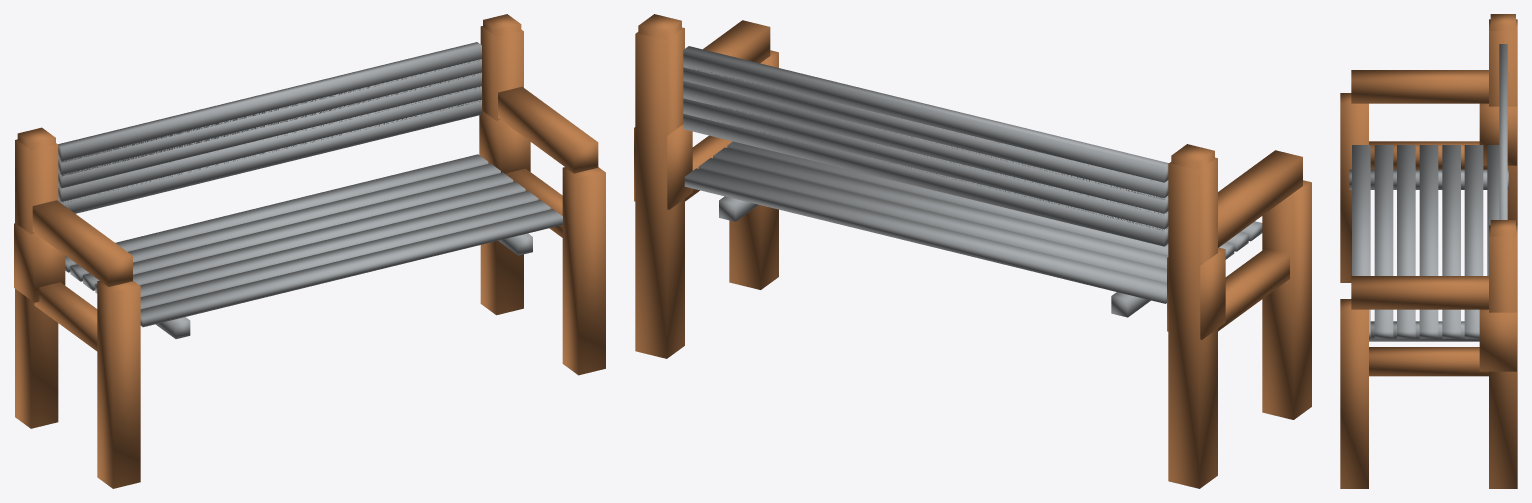
The model's file is SimpleBench.glb.
3 views of the same model, side by side, from view 1: azimuth 30°, elevation 25°; view 2: azimuth 150°, elevation 25°; view 3: azimuth 270°, elevation 25° (orthographic). The views are drawn at different scales.
Parts seen in each view (by area): view 1: GreySlats, OrangeFrame; view 2: GreySlats, OrangeFrame; view 3: OrangeFrame, GreySlats.
Part boxes in pixels (x1=…): GreySlats: x1=58, y1=42, x2=562, y2=338; OrangeFrame: x1=14, y1=14, x2=605, y2=488; GreySlats: x1=683, y1=46, x2=1262, y2=317; OrangeFrame: x1=634, y1=14, x2=1311, y2=488; OrangeFrame: x1=1340, y1=14, x2=1517, y2=488; GreySlats: x1=1349, y1=44, x2=1508, y2=341.
Bounding box in the file's own units: 1.53 × 0.84 × 0.525.
